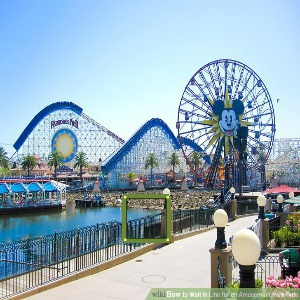square: (121, 191, 173, 245)
